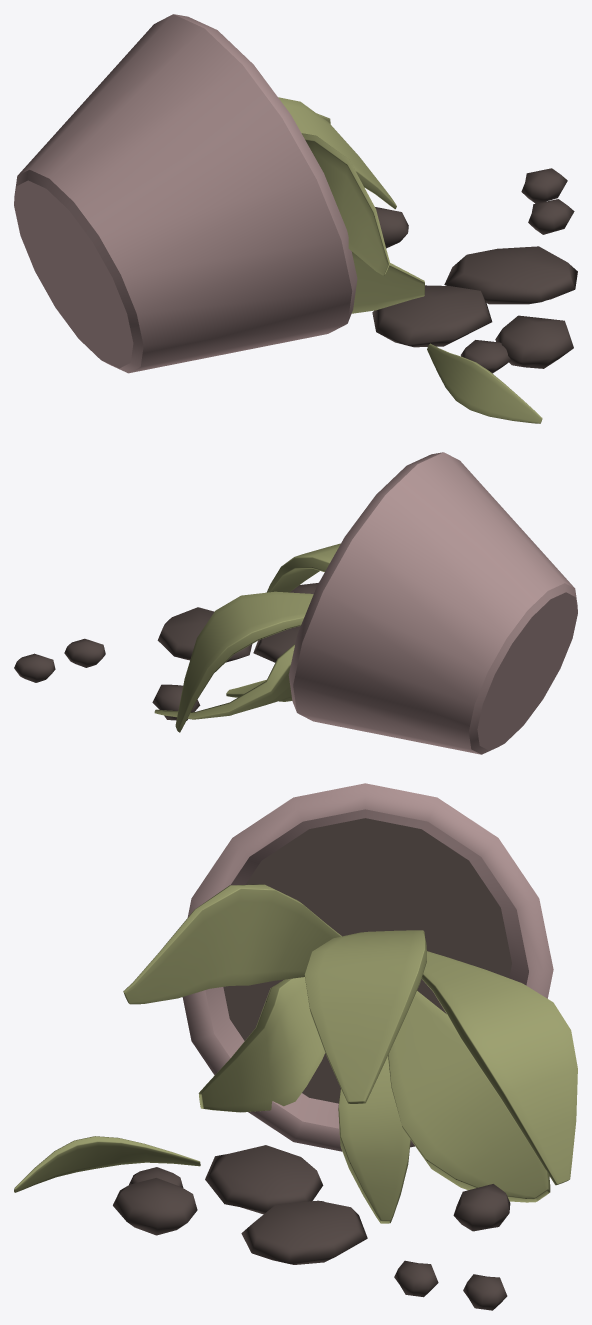
Rendered from SM_Plant_dead_fallen.fbx.
The picture shows the model from 3 angles, top to bottom: view 1: azimuth 30°, elevation 25°; view 2: azimuth 150°, elevation 25°; view 3: azimuth 270°, elevation 25°; orthographic projection. The views are drawn at different scales.
Visible parts, largest first — view 1: SM_Plant_dead_fallen; view 2: SM_Plant_dead_fallen; view 3: SM_Plant_dead_fallen.
Part boxes in pixels (x1=…): SM_Plant_dead_fallen: x1=14, y1=14, x2=577, y2=423; SM_Plant_dead_fallen: x1=14, y1=452, x2=577, y2=754; SM_Plant_dead_fallen: x1=14, y1=783, x2=577, y2=1310.
Size of the model in its own units: 39.76 by 20.98 by 32.36.
